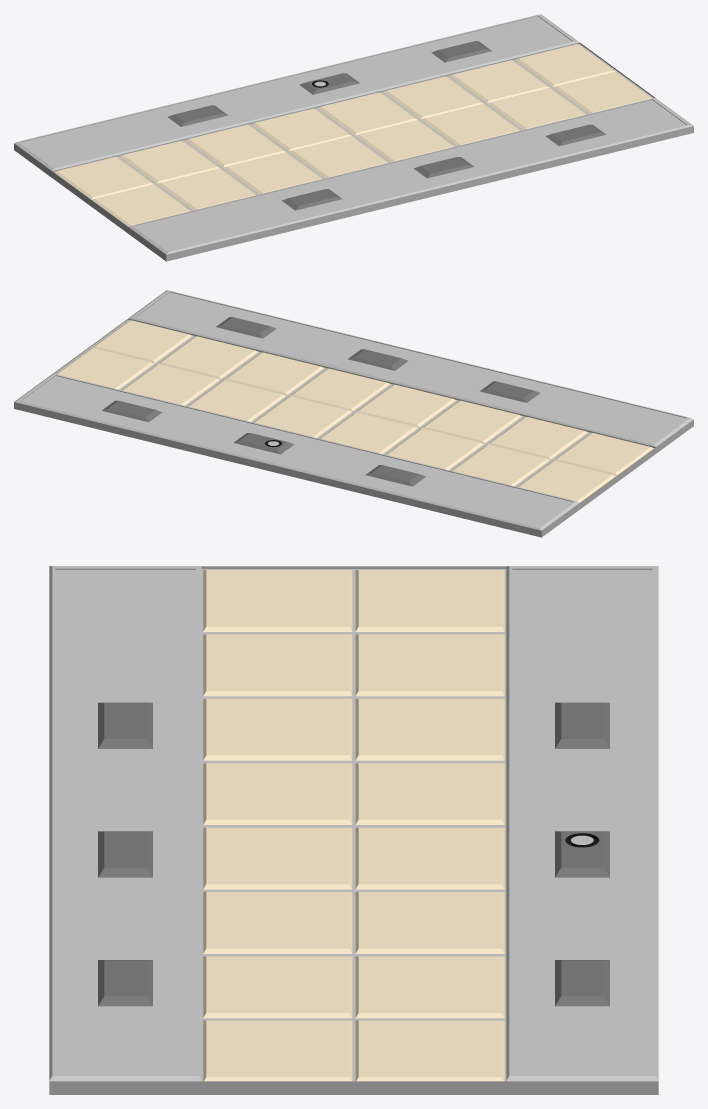
The model's file is WalkWay_FBX.fbx.
The picture shows the model from 3 angles, top to bottom: view 1: azimuth 30°, elevation 25°; view 2: azimuth 150°, elevation 25°; view 3: azimuth 270°, elevation 25°; orthographic projection. The views are drawn at different scales.
Parts seen in each view (by area): view 1: Walkway; view 2: Walkway; view 3: Walkway.
Boxes of the visible parts, bbox=[...] form: Walkway: bbox=[14, 14, 693, 261]; Walkway: bbox=[14, 290, 693, 537]; Walkway: bbox=[49, 566, 658, 1094].
Size of the model in its own units: 605 by 10.94 by 302.
